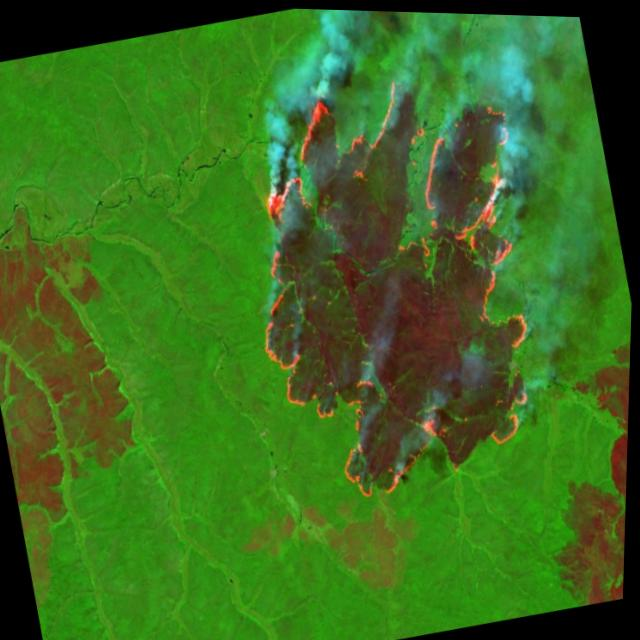fire: (210, 53, 580, 519)
